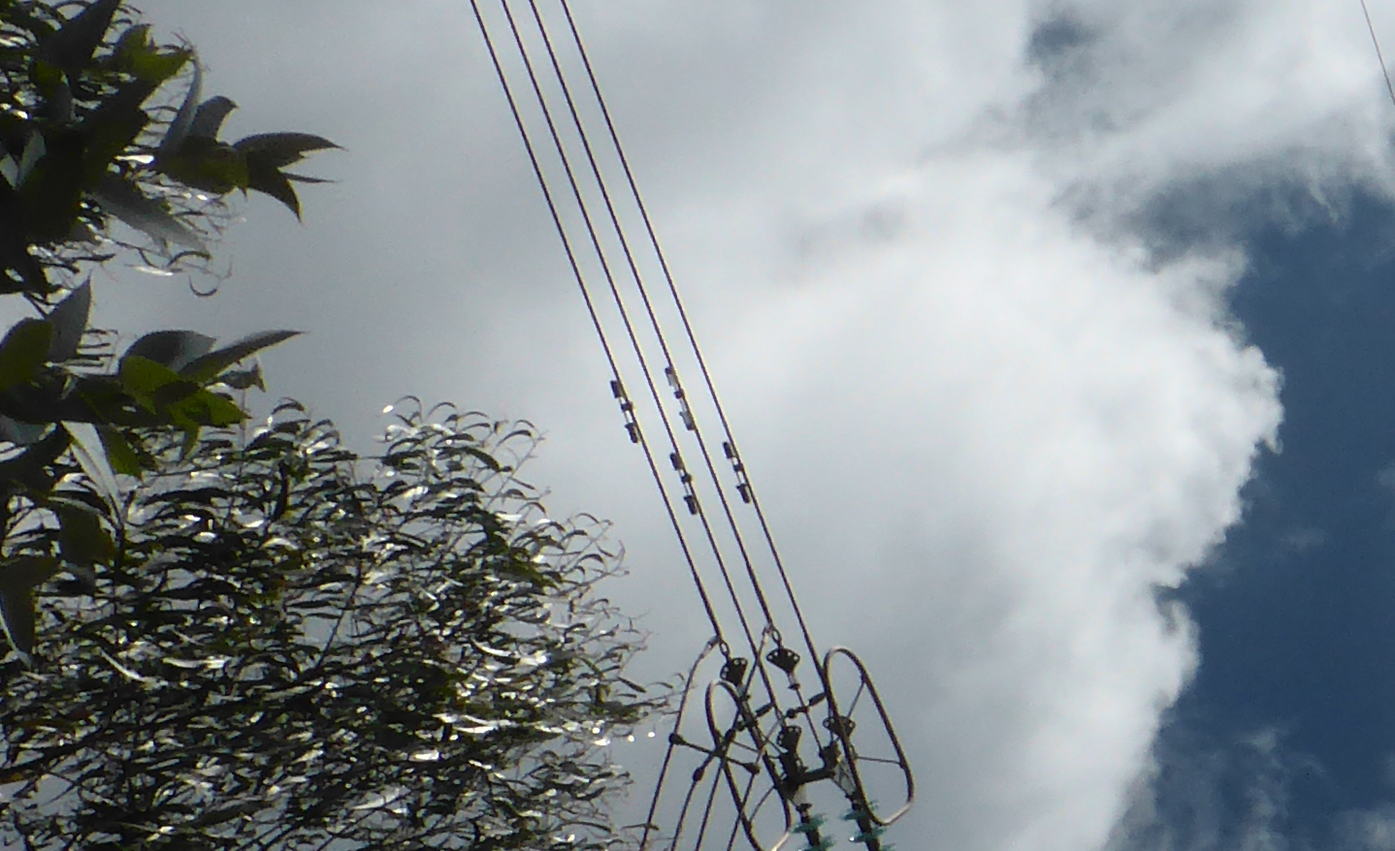damper: (662, 361, 695, 433), (609, 375, 640, 444), (724, 434, 752, 505), (668, 451, 698, 517)
